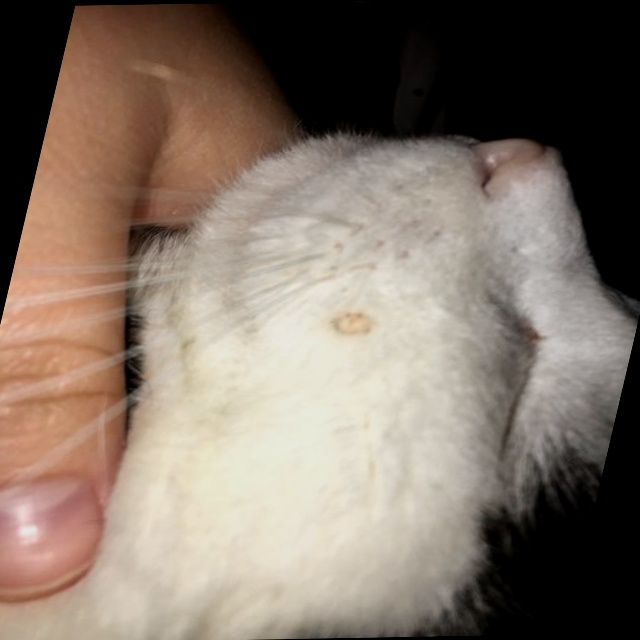lump_and_bump: (331, 314, 376, 337)
